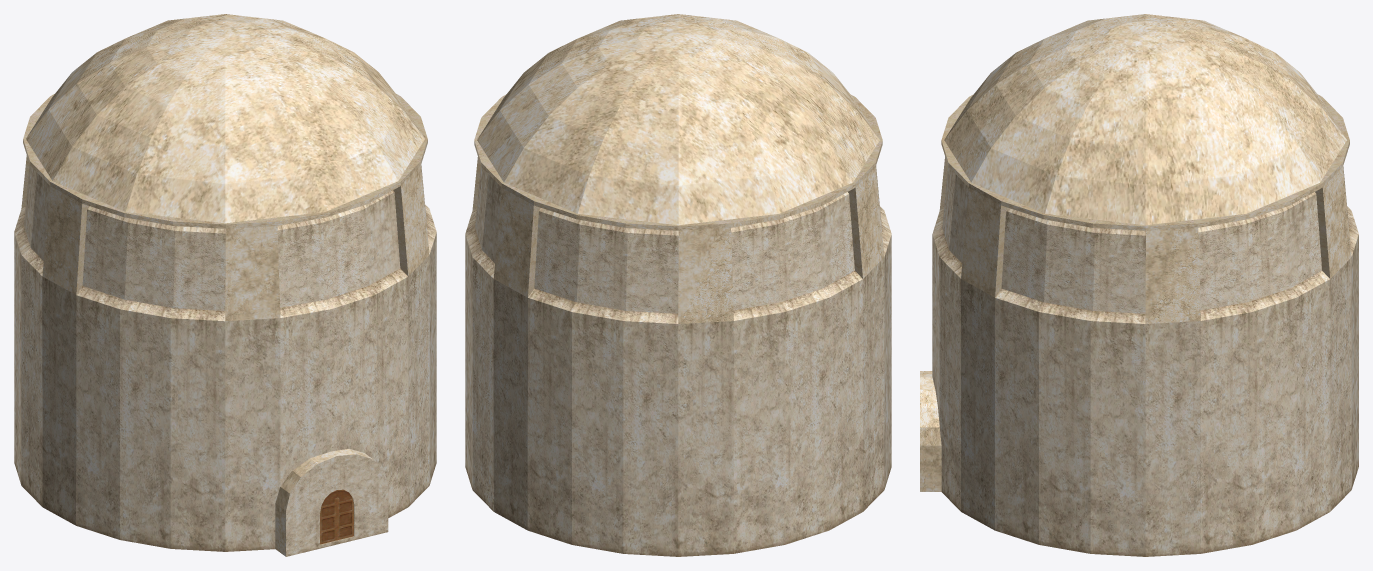
The model's file is thm_tato_imprv_building_s08_l0.fbx.
The picture shows the model from 3 angles, left to right: view 1: azimuth 30°, elevation 25°; view 2: azimuth 150°, elevation 25°; view 3: azimuth 270°, elevation 25°; orthographic projection.
Parts seen in each view (by area): view 1: mesh_node; view 2: mesh_node; view 3: mesh_node.
Part boxes in pixels (x1=…): mesh_node: x1=14, y1=14, x2=436, y2=556; mesh_node: x1=465, y1=14, x2=891, y2=556; mesh_node: x1=920, y1=14, x2=1358, y2=556.
Size of the model in its own units: 23.13 by 25.85 by 23.8.
